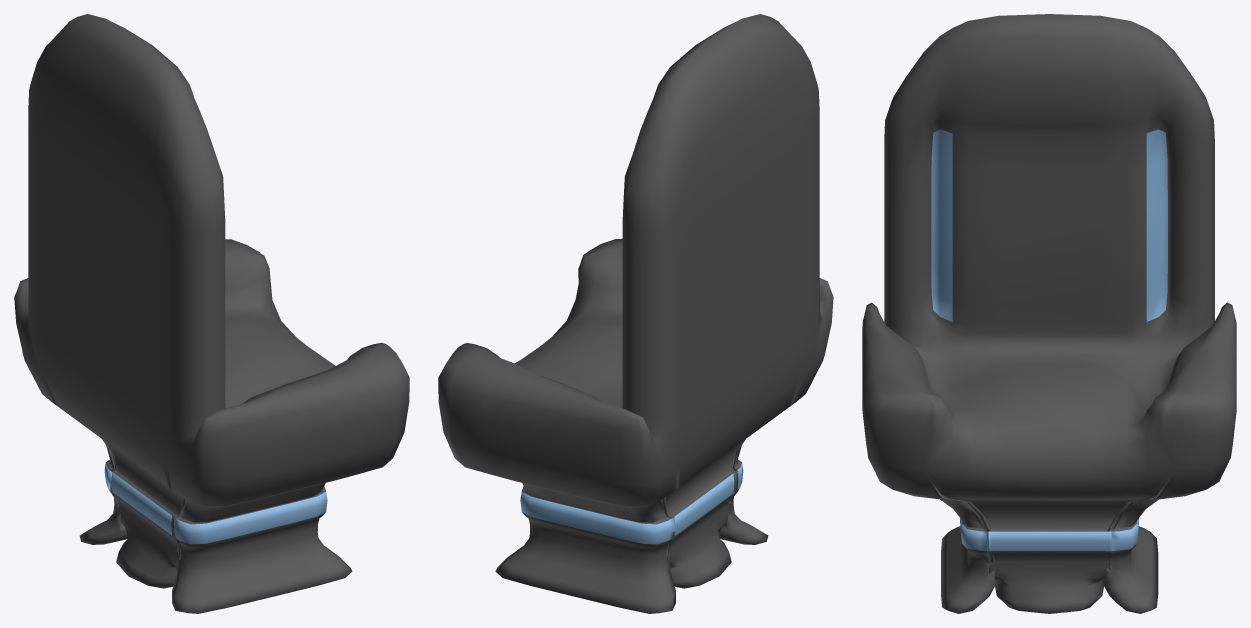
File: Captains Chair.fbx
3 views of the same model, side by side, from view 1: azimuth 30°, elevation 25°; view 2: azimuth 150°, elevation 25°; view 3: azimuth 270°, elevation 25° (orthographic). The views are drawn at different scales.
Visible parts, largest first — view 1: Captains Chair; view 2: Captains Chair; view 3: Captains Chair.
Part boxes in pixels (left/top/right/bottom): Captains Chair: left=14, top=14, right=409, bottom=613; Captains Chair: left=438, top=14, right=833, bottom=613; Captains Chair: left=862, top=14, right=1236, bottom=613.
Bounding box in the file's own units: 200 × 461 × 299.
